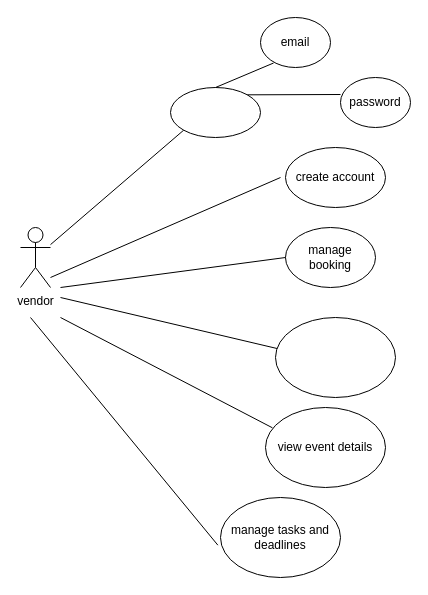
Image size: 428x595. Some labels were removed from this diagram. The centre of each missing label's shape, as x and y in pixels:
"communicate with planners" belongs at point 335,357.
"login" belongs at point 215,112.
